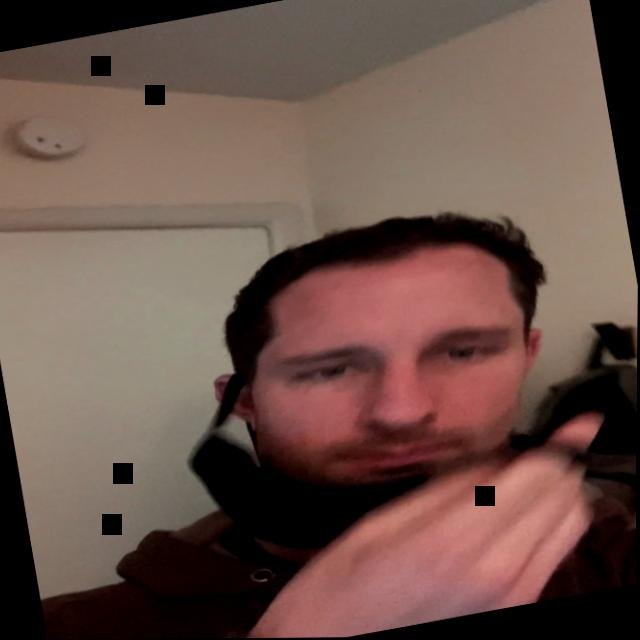NO-Mask: (196, 213, 577, 524)
